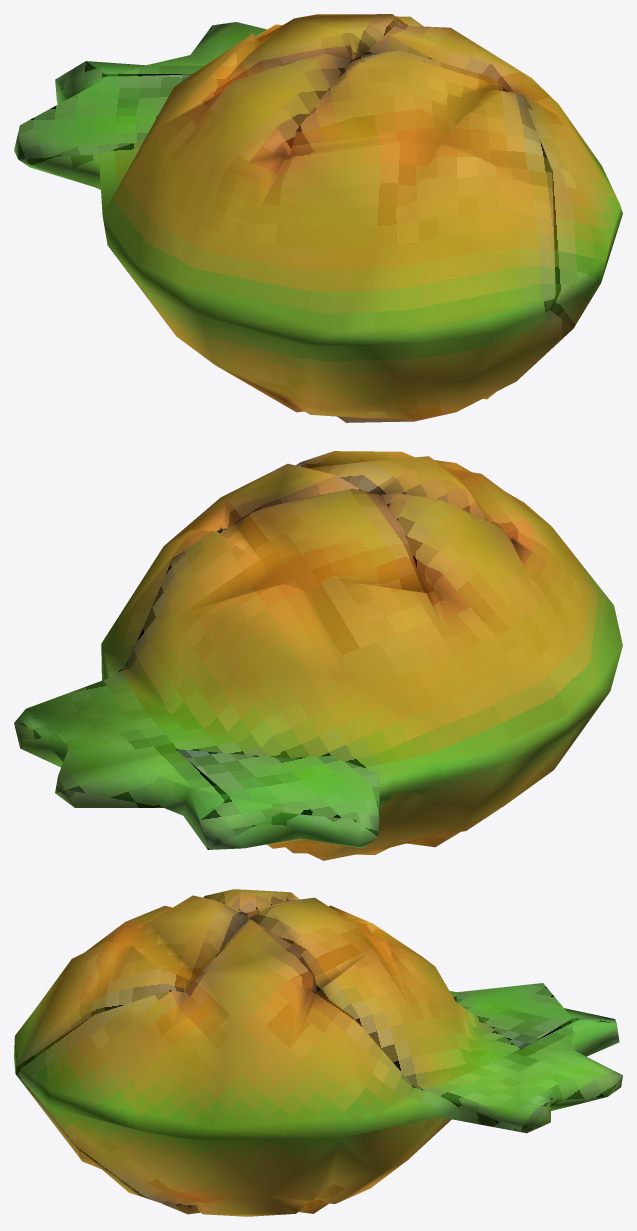
File: PINEAPPLE_MARACA_6_PCSSET-low.glb
The picture shows the model from 3 angles, top to bottom: view 1: azimuth 30°, elevation 25°; view 2: azimuth 150°, elevation 25°; view 3: azimuth 270°, elevation 25°; orthographic projection. The views are drawn at different scales.
Visible parts, largest first — view 1: PINEAPPLE_MARACA_6_PCSSET; view 2: PINEAPPLE_MARACA_6_PCSSET; view 3: PINEAPPLE_MARACA_6_PCSSET.
Part boxes in pixels (bbox=[...]): PINEAPPLE_MARACA_6_PCSSET: bbox=[14, 14, 622, 422]; PINEAPPLE_MARACA_6_PCSSET: bbox=[14, 451, 622, 860]; PINEAPPLE_MARACA_6_PCSSET: bbox=[14, 889, 622, 1216].
Bounding box in the file's own units: 0.0678 × 0.0532 × 0.1.
Materials: 1 (1 with a texture image).
